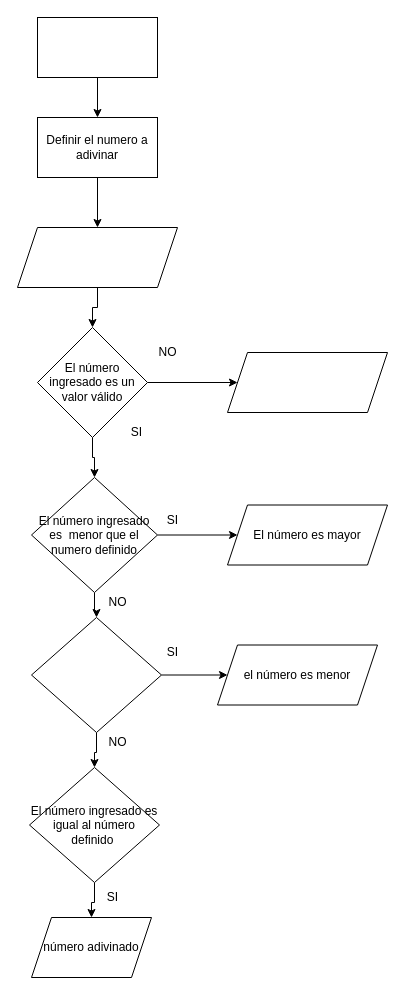
Some shapes in this 405 by 995 pixel diagram are drawn without their labels. Each missing label, with the centre of its shape:
Adivinanza de numero para el usuario: [97,47]
El número ingresado es mayor que el numero definido: [96,674]
Ingresa un número válido: [307,382]
Solicitar al usuario que ingrese un número: [97,257]
